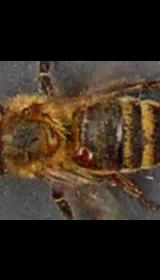varroa_mite: (70, 140, 98, 172)
